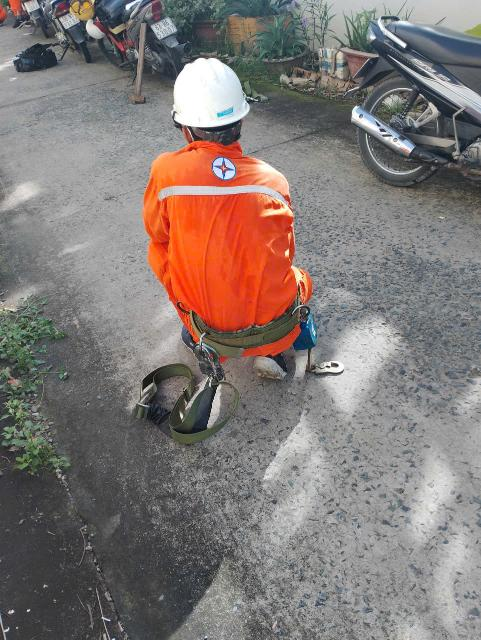harness: (174, 299, 314, 348)
helmet: (157, 52, 264, 129)
shoes: (172, 318, 228, 374), (252, 346, 312, 392)
